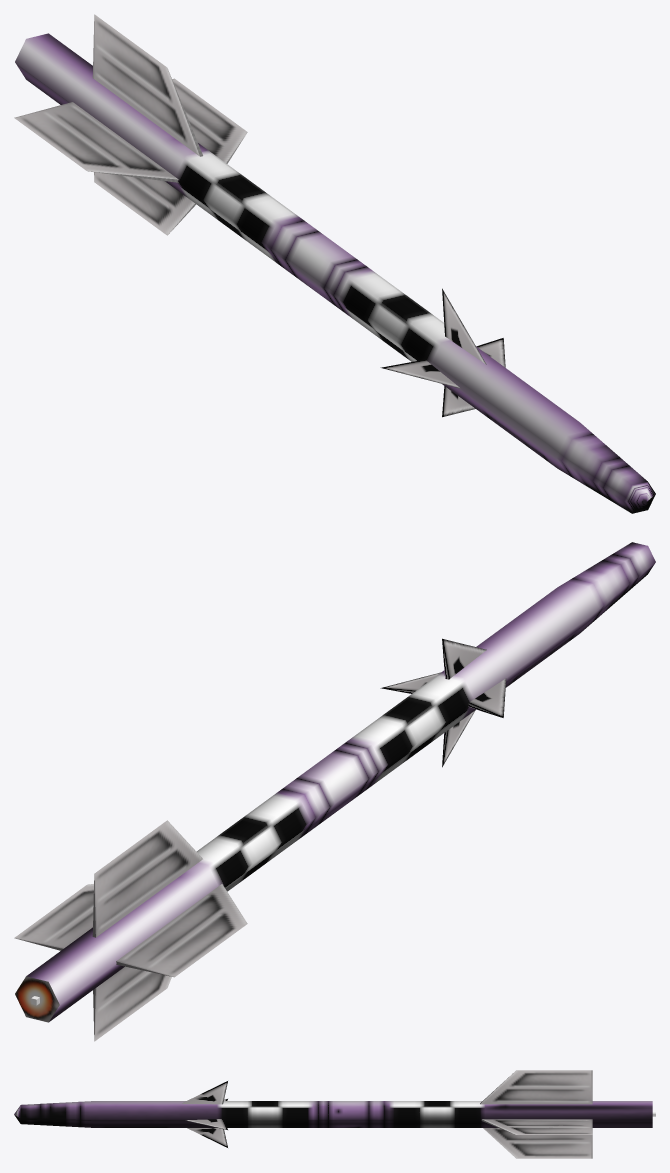
The model's file is mis03.obj.
3 renders of one model, top to bottom at view 1: azimuth 30°, elevation 25°; view 2: azimuth 150°, elevation 25°; view 3: azimuth 270°, elevation 25°, orthographic. The views are drawn at different scales.
Parts seen in each view (by area): view 1: frm-main_body, frm-rear_fin5, frm-rear_fin6, frm-rear_fin7, frm-rear_fin5_1, frm-frontfin4, frm-frontfin5; view 2: frm-main_body, frm-rear_fin5, frm-rear_fin6, frm-rear_fin7, frm-rear_fin5_1, frm-frontfin4, frm-frontfin5; view 3: frm-main_body, frm-rear_fin5, frm-rear_fin7, frm-rear_fin5_1, frm-frontfin4, frm-frontfin7, frm-frontfin4_1.
Boxes of the visible parts, box(x1,y1,x2,y2) form: frm-main_body: box(15, 33, 655, 513); frm-rear_fin5: box(92, 14, 202, 156); frm-rear_fin6: box(14, 102, 178, 182); frm-rear_fin7: box(94, 172, 196, 235); frm-rear_fin5_1: box(172, 78, 247, 163); frm-frontfin4: box(442, 288, 486, 364); frm-frontfin5: box(380, 359, 460, 388); frm-main_body: box(15, 542, 655, 1022); frm-rear_fin5: box(92, 820, 202, 937); frm-rear_fin6: box(116, 884, 247, 977); frm-rear_fin7: box(93, 966, 171, 1041); frm-rear_fin5_1: box(14, 884, 93, 950); frm-frontfin4: box(442, 638, 486, 679); frm-frontfin5: box(468, 678, 506, 717); frm-main_body: box(14, 1101, 652, 1127); frm-rear_fin5: box(480, 1070, 592, 1104); frm-rear_fin7: box(483, 1128, 592, 1158); frm-rear_fin5_1: box(481, 1119, 592, 1134); frm-frontfin4: box(182, 1081, 227, 1104); frm-frontfin7: box(187, 1128, 227, 1147); frm-frontfin4_1: box(185, 1119, 227, 1129).
Size of the model in its own units: 1.73 by 1.73 by 11.41.
